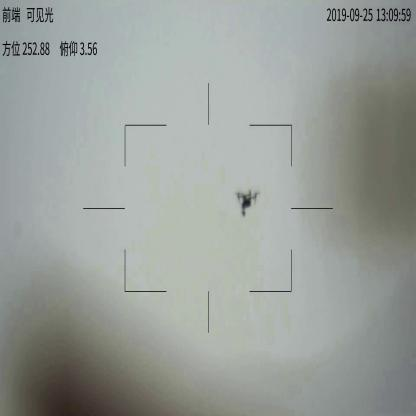uav: (237, 186, 263, 216)
